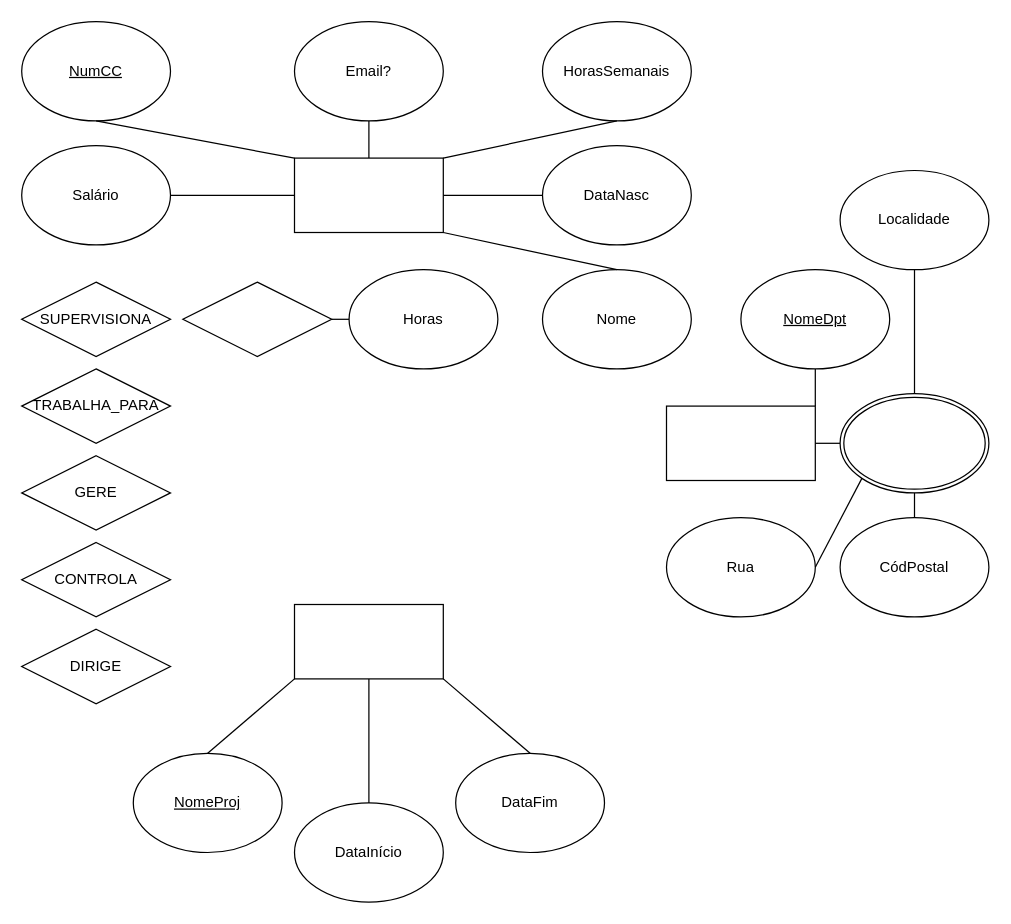
Image size: 1011x924. Some labels were removed from this diagram. The shapes that lost their labels are listed below. From the top down, each one's box as (x1, y1, x2, y2) in pixels, then its label:
(293, 157, 443, 232): FUNCIONÁRIO
(182, 281, 332, 356): TRABALHA_EM
(665, 405, 815, 480): DEPARTAMENTO
(839, 392, 989, 493): Localização
(293, 603, 443, 679): PROJECTO
